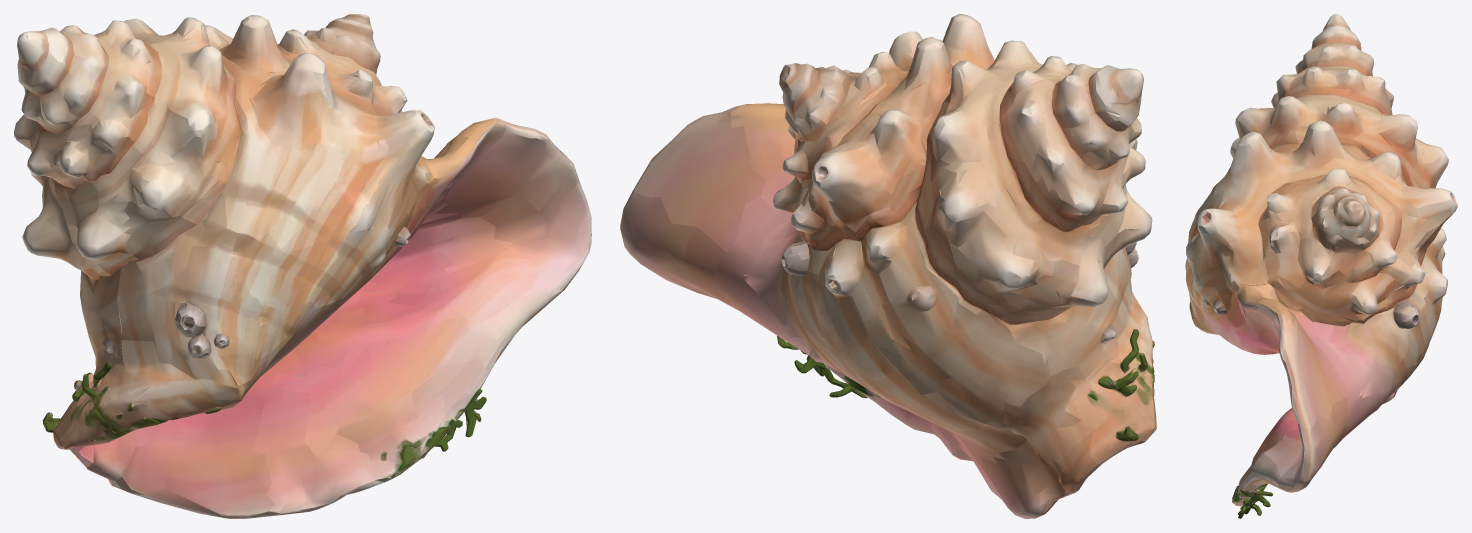
The model's file is east_conch.glb.
3 renders of one model, left to right at view 1: azimuth 30°, elevation 25°; view 2: azimuth 150°, elevation 25°; view 3: azimuth 270°, elevation 25°, orthographic. The views are drawn at different scales.
Parts seen in each view (by area): view 1: Mesh_0; view 2: Mesh_0; view 3: Mesh_0.
Boxes of the visible parts, <box> form: Mesh_0: <box>14,14,591,518</box>; Mesh_0: <box>620,14,1156,518</box>; Mesh_0: <box>1185,14,1457,518</box>.
Size of the model in its own units: 8.4 by 7.26 by 4.53.
Materials: 1 (1 with a texture image).
